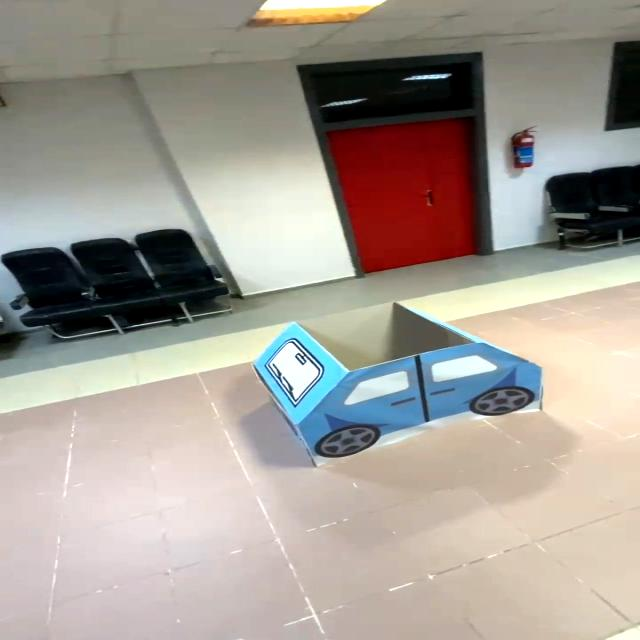blue_car: (222, 296, 576, 484)
